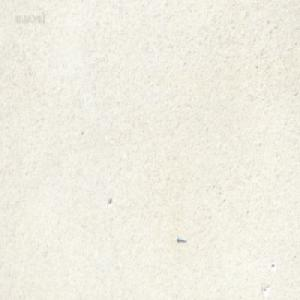Nail: (176, 235, 186, 242)
